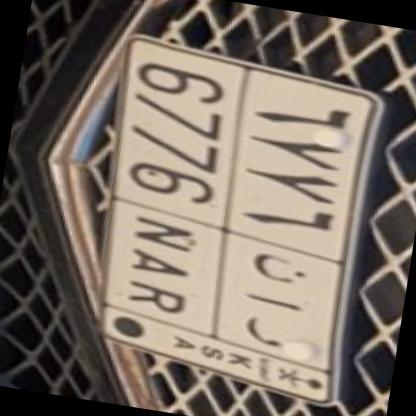english: (91, 33, 268, 344)
